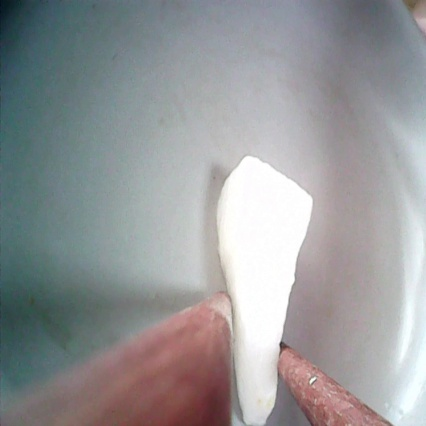white_chinese-yam: (210, 154, 319, 424)
